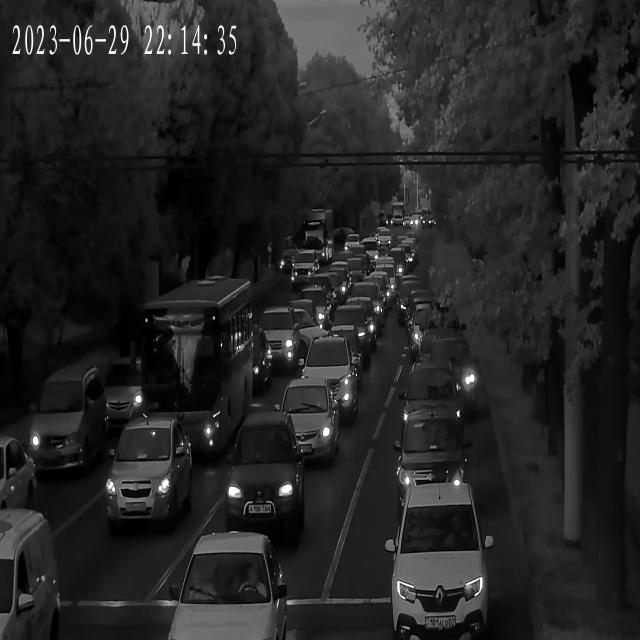Bus: (140, 294, 255, 458)
Car: (390, 474, 499, 640), (166, 533, 292, 640), (219, 419, 304, 539), (104, 424, 193, 531), (28, 371, 110, 477), (395, 410, 471, 506), (1, 525, 59, 640), (293, 334, 362, 420), (270, 383, 339, 465), (395, 366, 466, 440), (409, 339, 479, 413), (85, 362, 147, 430), (408, 304, 469, 366), (167, 411, 230, 459), (253, 310, 306, 364), (1, 439, 36, 517), (324, 306, 375, 358), (318, 330, 369, 381), (344, 285, 386, 327), (291, 286, 334, 326), (280, 300, 327, 336), (303, 272, 347, 306), (358, 272, 396, 311), (394, 276, 432, 314), (292, 252, 323, 286), (382, 248, 412, 274), (280, 249, 308, 273), (355, 237, 380, 261), (341, 236, 362, 256), (395, 238, 416, 255)
